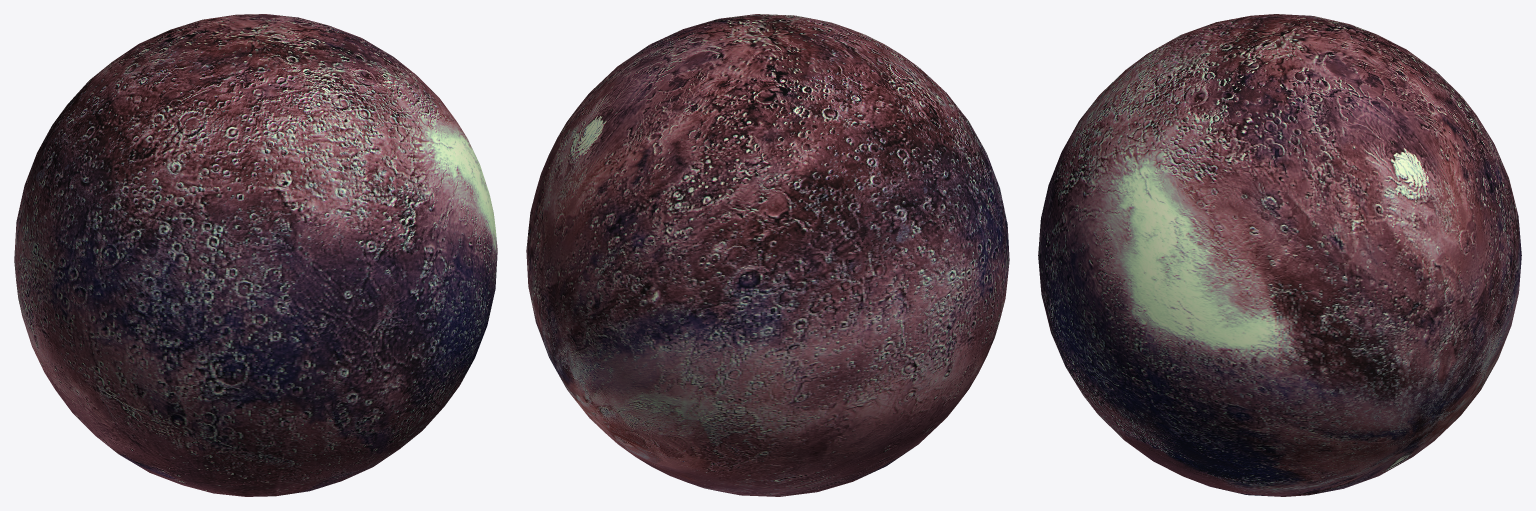
File: mars_planet_optimized.glb
3 renders of one model, left to right at view 1: azimuth 30°, elevation 25°; view 2: azimuth 150°, elevation 25°; view 3: azimuth 270°, elevation 25°, orthographic.
Parts seen in each view (by area): view 1: LowpolyMars; view 2: LowpolyMars; view 3: LowpolyMars.
Part boxes in pixels (box(x1,y1,x2,y2)): LowpolyMars: box(14, 14, 497, 496); LowpolyMars: box(526, 14, 1009, 496); LowpolyMars: box(1038, 14, 1521, 496).
Size of the model in its own units: 100 by 100 by 100.
1 material, 1 textured.
